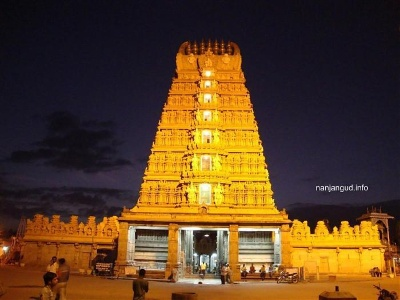gopura: (133, 43, 297, 216)
